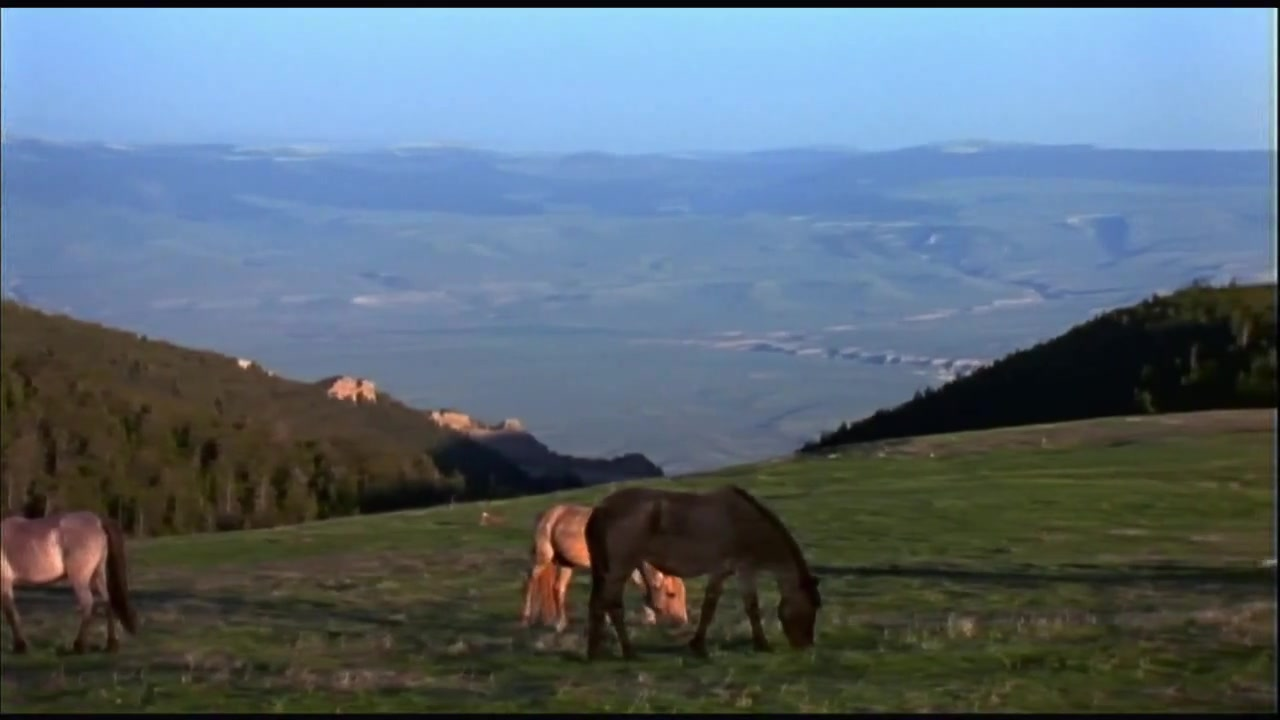horse: (584, 485, 829, 669)
